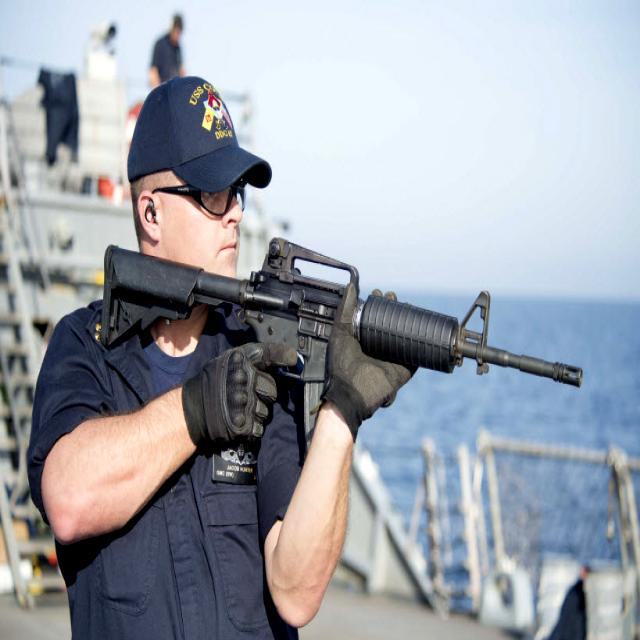m16: (81, 220, 598, 441)
